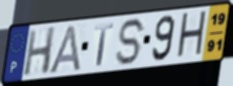9: (151, 14, 177, 63)
A: (46, 23, 82, 75)
H: (22, 25, 57, 78), (175, 9, 208, 62)
S: (114, 17, 148, 68)
T: (93, 22, 115, 68)
